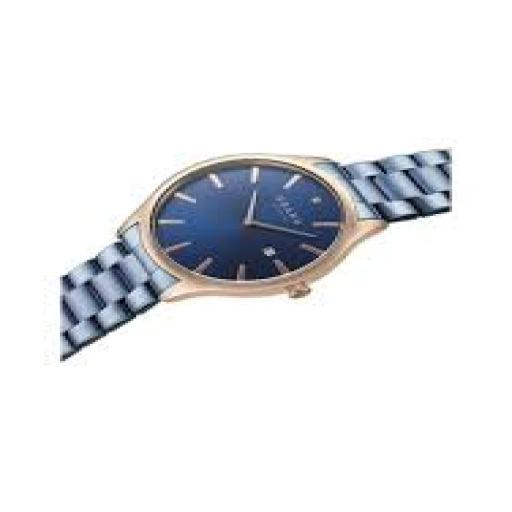KolSaati: (18, 63, 512, 381)
